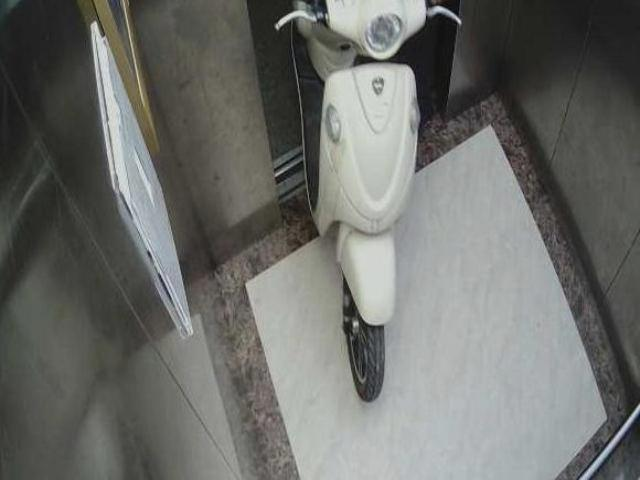emotor: (271, 2, 438, 387)
